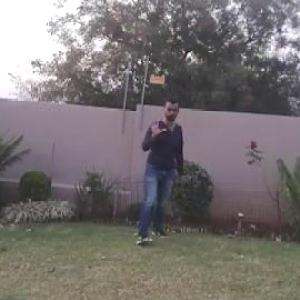follow_hand: (145, 113, 169, 141)
